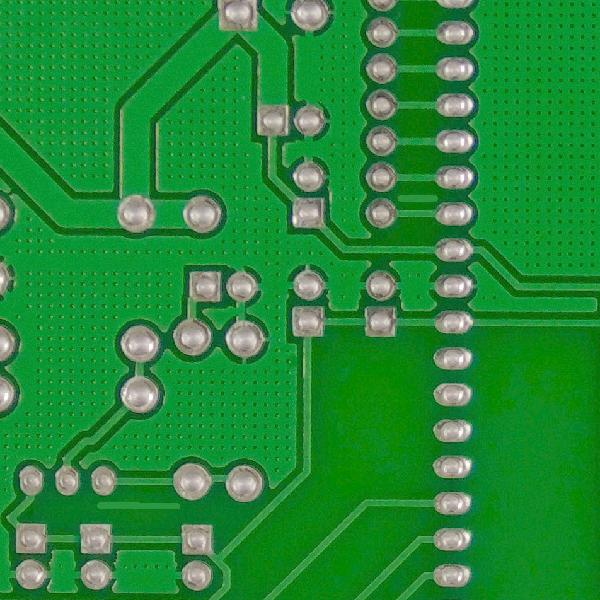spurious_copper: (92, 489, 190, 528), (395, 187, 444, 210)
